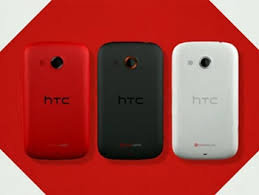htc: (171, 40, 236, 160), (97, 38, 162, 158), (25, 39, 90, 159)
